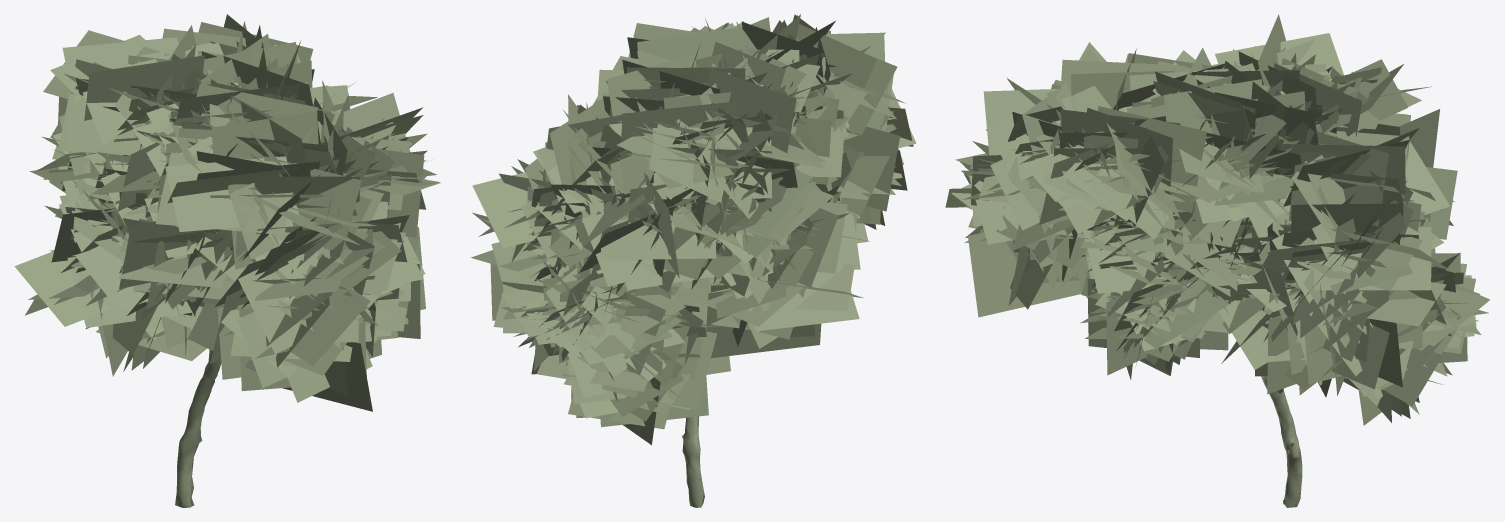
The model's file is tree-lod2.glb.
The picture shows the model from 3 angles, left to right: view 1: azimuth 30°, elevation 25°; view 2: azimuth 150°, elevation 25°; view 3: azimuth 270°, elevation 25°; orthographic projection. The views are drawn at different scales.
Visible parts, largest first — view 1: Photographic canopy, tree_small_02_LOD0; view 2: Photographic canopy, tree_small_02_LOD0; view 3: Photographic canopy, tree_small_02_LOD0.
Part boxes in pixels (bbox=[...]): Photographic canopy: bbox=[14, 14, 440, 411]; tree_small_02_LOD0: bbox=[175, 349, 221, 507]; Photographic canopy: bbox=[471, 14, 916, 445]; tree_small_02_LOD0: bbox=[681, 416, 704, 507]; Photographic canopy: bbox=[945, 14, 1489, 425]; tree_small_02_LOD0: bbox=[1261, 376, 1302, 507].
Bounding box in the file's own units: 4 × 4.87 × 5.42.
